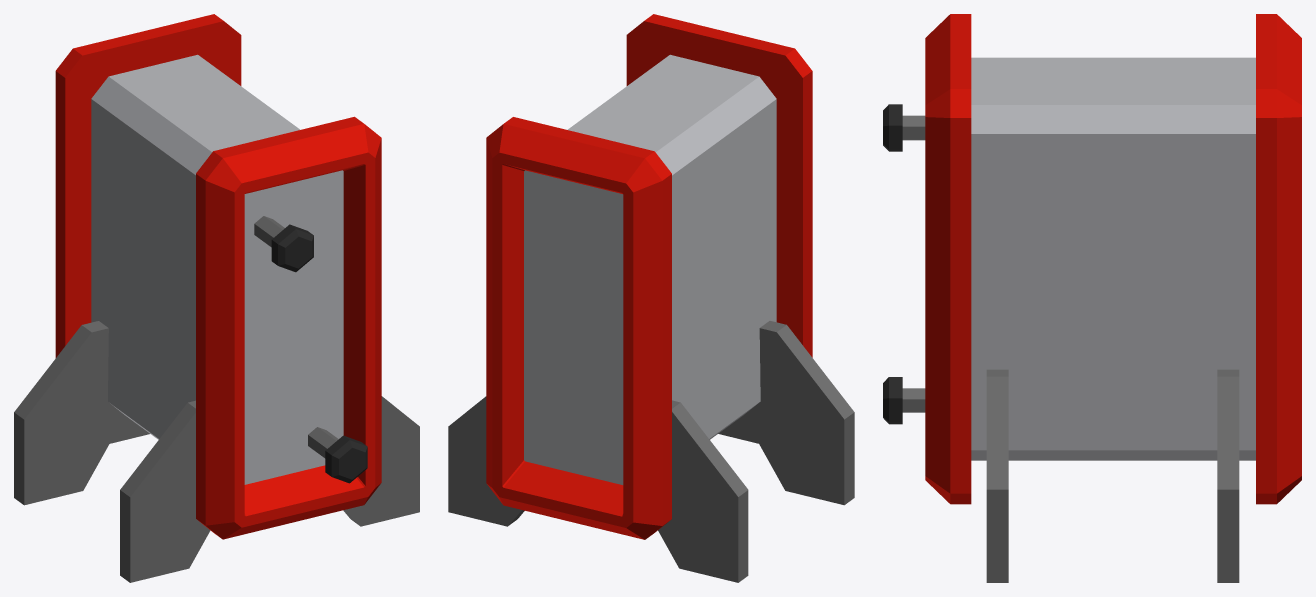
The model's file is Exchanger.fbx.
The picture shows the model from 3 angles, left to right: view 1: azimuth 30°, elevation 25°; view 2: azimuth 150°, elevation 25°; view 3: azimuth 270°, elevation 25°; orthographic projection. The views are drawn at different scales.
Parts seen in each view (by area): view 1: Exchanger; view 2: Exchanger; view 3: Exchanger.
Boxes of the visible parts, x1,y1,x2,y2 form: Exchanger: (14, 14, 419, 582); Exchanger: (448, 14, 854, 582); Exchanger: (883, 14, 1301, 582).
Bounding box in the file's own units: 31.84 × 43.93 × 36.61.
